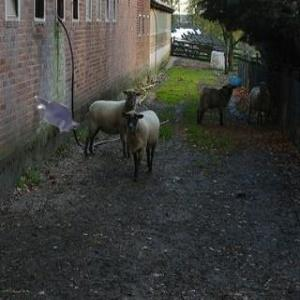drone: (19, 77, 100, 158)
